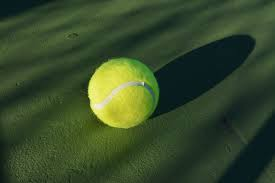tennis_ball: (87, 55, 160, 128)
